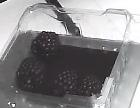berry: (17, 57, 43, 90), (31, 31, 60, 57), (54, 69, 79, 93), (77, 75, 103, 95)
